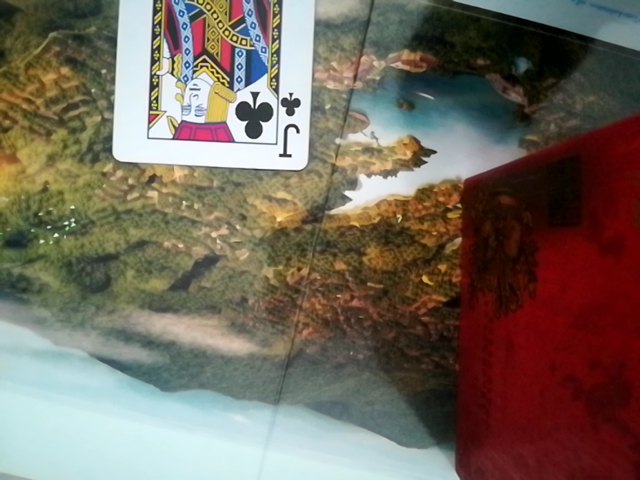mh j: (111, 0, 319, 171)
